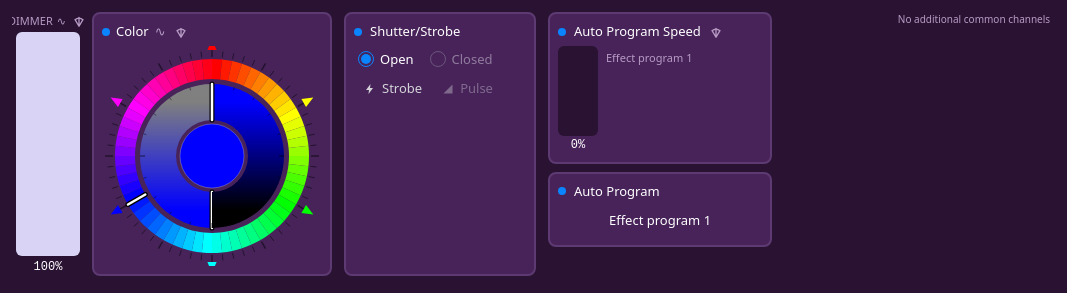
Test case: Auto Program + Auto Program Speed panels › choosing "No Selection" again writes the no-function range
The image size is (1067, 293).
Click the button "Effect program 1": coordinates (660, 221) [558, 205, 762, 236]
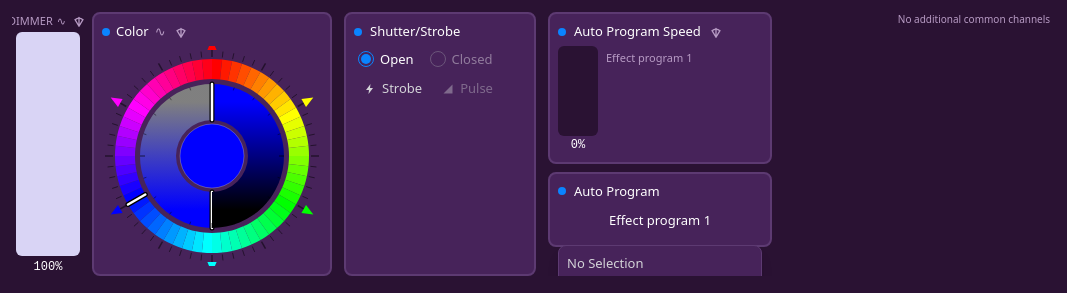
Click the option "No Selection": coordinates (605, 262) [567, 254, 644, 272]
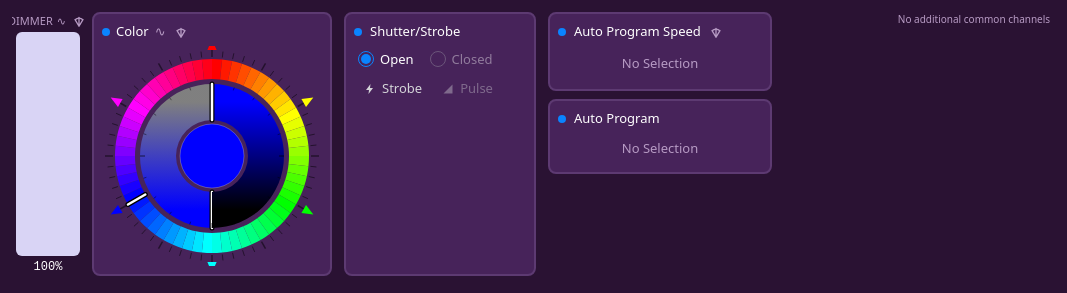
Expected: the element with test id "auto-program-speed-card" shows "No Selection", [622, 54, 698, 72]
